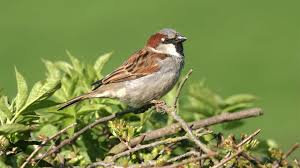hsparrow: (54, 27, 189, 127)
